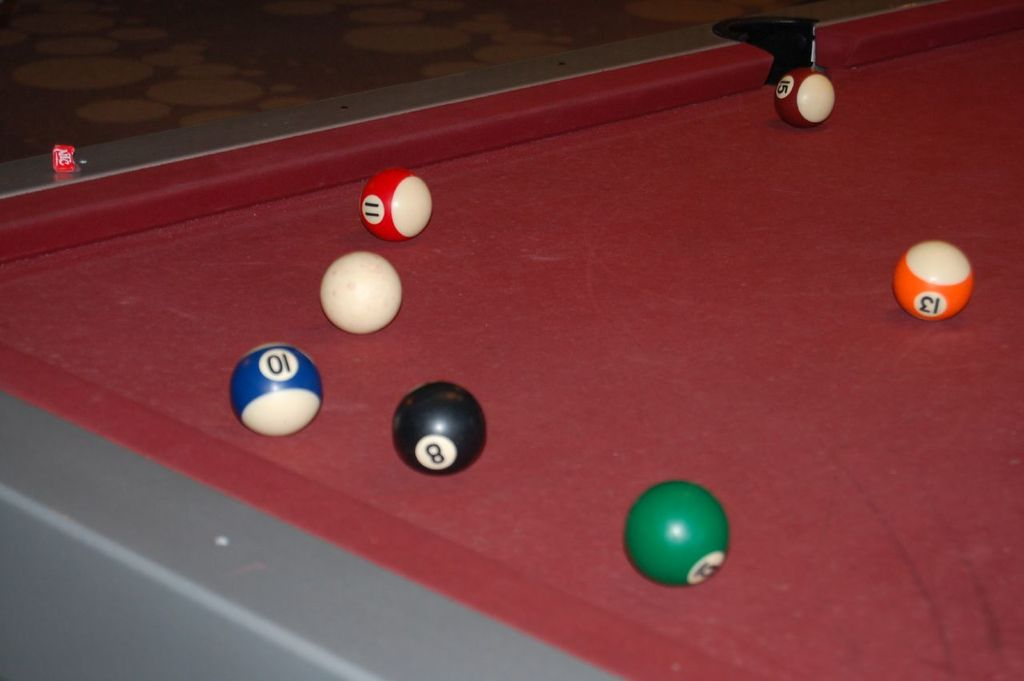Ball: (626, 483, 729, 585), (394, 382, 488, 476), (228, 346, 321, 439), (317, 250, 401, 333), (894, 242, 975, 315), (364, 169, 435, 240), (774, 66, 835, 126)
